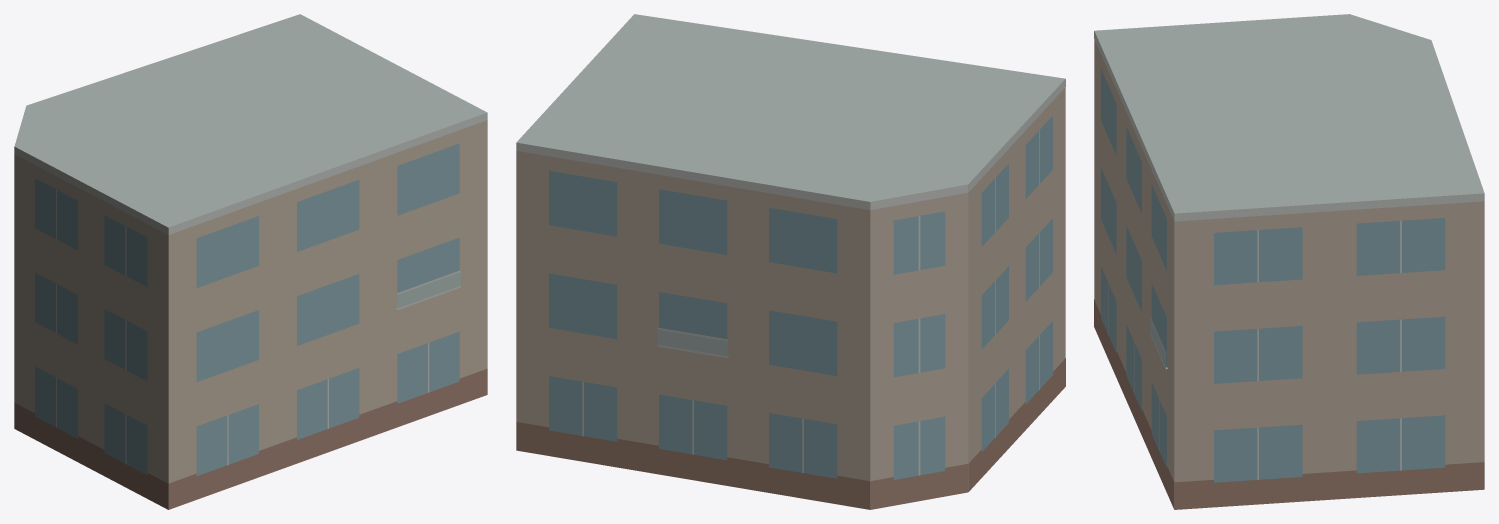
The model's file is survey-upis-32911847.glb.
The picture shows the model from 3 angles, left to right: view 1: azimuth 30°, elevation 25°; view 2: azimuth 150°, elevation 25°; view 3: azimuth 270°, elevation 25°; orthographic projection. The views are drawn at different scales.
Visible parts, largest first — view 1: survey-upis-32911847.tmp; view 2: survey-upis-32911847.tmp; view 3: survey-upis-32911847.tmp.
Part boxes in pixels (<box>): survey-upis-32911847.tmp: <box>14,14,487,509</box>; survey-upis-32911847.tmp: <box>516,14,1065,509</box>; survey-upis-32911847.tmp: <box>1094,14,1484,509</box>.
Size of the model in its own units: 13.23 by 9.15 by 10.94.
